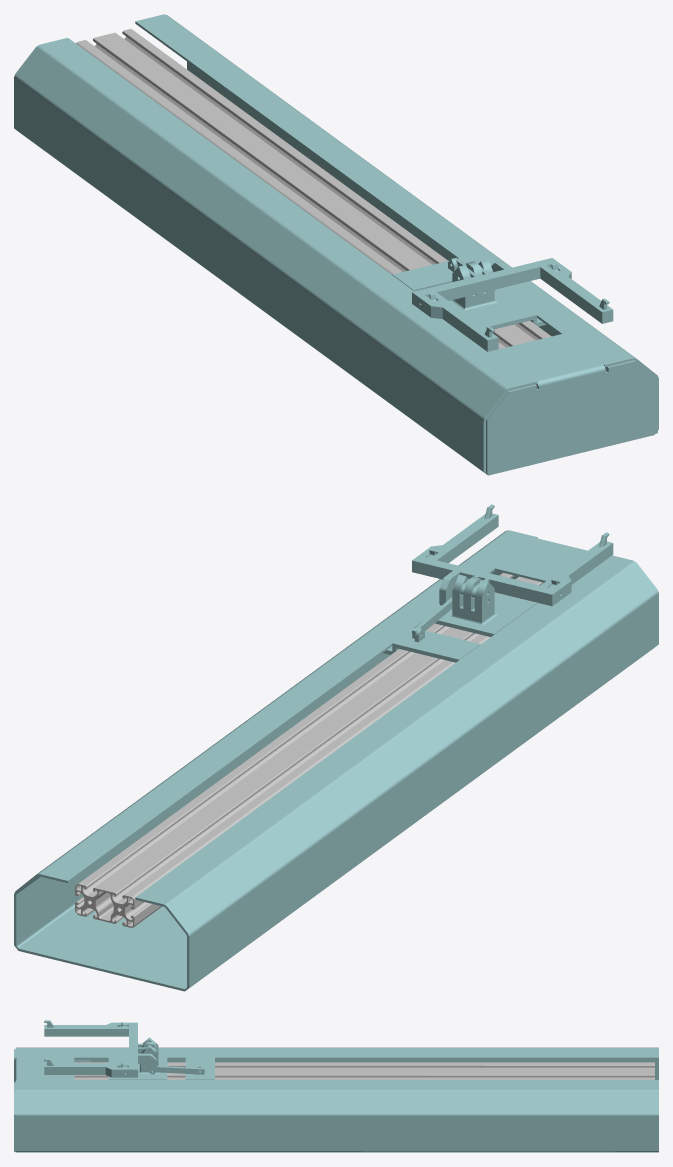
The model's file is shoe_dispenser.gltf.
3 views of the same model, one above another, from view 1: azimuth 30°, elevation 25°; view 2: azimuth 150°, elevation 25°; view 3: azimuth 270°, elevation 25° (orthographic). The views are drawn at different scales.
Parts seen in each view (by area): view 1: shoe_case, shoe_adapter, shoe_lid, hefboom, shoe_slider, shoe_slider_2; view 2: shoe_case, shoe_adapter, hefboom, shoe_slider, shoe_lid, shoe_slider_2; view 3: shoe_case, shoe_adapter, hefboom, shoe_lid, shoe_slider, shoe_slider_2, shoe_link.
Part boxes in pixels (x1,y1,x2,y2): shoe_case: [14, 14, 658, 475]; shoe_adapter: [76, 29, 551, 350]; shoe_lid: [486, 334, 657, 474]; hefboom: [412, 258, 613, 351]; shoe_slider: [449, 259, 546, 329]; shoe_slider_2: [392, 258, 466, 291]; shoe_case: [14, 530, 658, 991]; shoe_adapter: [75, 573, 543, 927]; hefboom: [412, 504, 613, 606]; shoe_slider: [435, 574, 536, 636]; shoe_lid: [491, 538, 587, 582]; shoe_slider_2: [383, 627, 480, 662]; shoe_case: [15, 1047, 658, 1152]; shoe_adapter: [74, 1060, 654, 1079]; hefboom: [44, 1020, 158, 1077]; shoe_lid: [14, 1049, 74, 1151]; shoe_slider: [108, 1037, 167, 1079]; shoe_slider_2: [185, 1057, 214, 1079]; shoe_link: [156, 1065, 203, 1074].
Size of the model in its own units: 0.237 by 0.1607 by 1.1.
